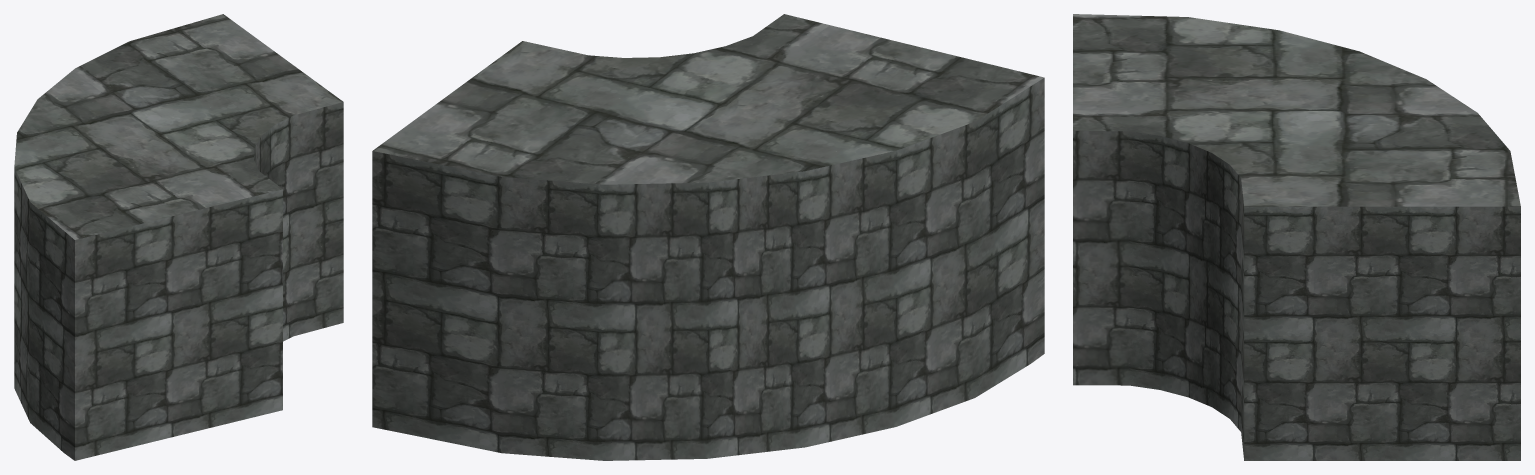
Rendered from sewer_road002.FBX.
3 renders of one model, left to right at view 1: azimuth 30°, elevation 25°; view 2: azimuth 150°, elevation 25°; view 3: azimuth 270°, elevation 25°, orthographic. The views are drawn at different scales.
Parts seen in each view (by area): view 1: sewer_road002; view 2: sewer_road002; view 3: sewer_road002.
Boxes of the visible parts, x1,y1,x2,y2 form: sewer_road002: (14, 14, 343, 460); sewer_road002: (372, 14, 1044, 460); sewer_road002: (1073, 14, 1520, 460).
Size of the model in its own units: 1355 by 833 by 1331.
